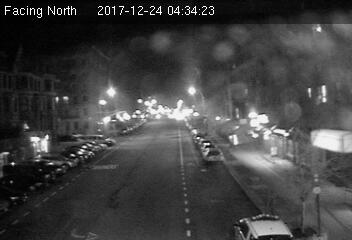car: (202, 147, 224, 164)
police: (230, 208, 290, 240)
